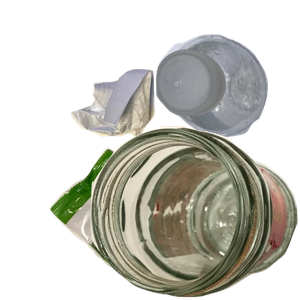glass: (90, 126, 300, 300)
paper: (68, 66, 215, 197)
plastic: (153, 31, 300, 161)
trash: (47, 146, 220, 300)
